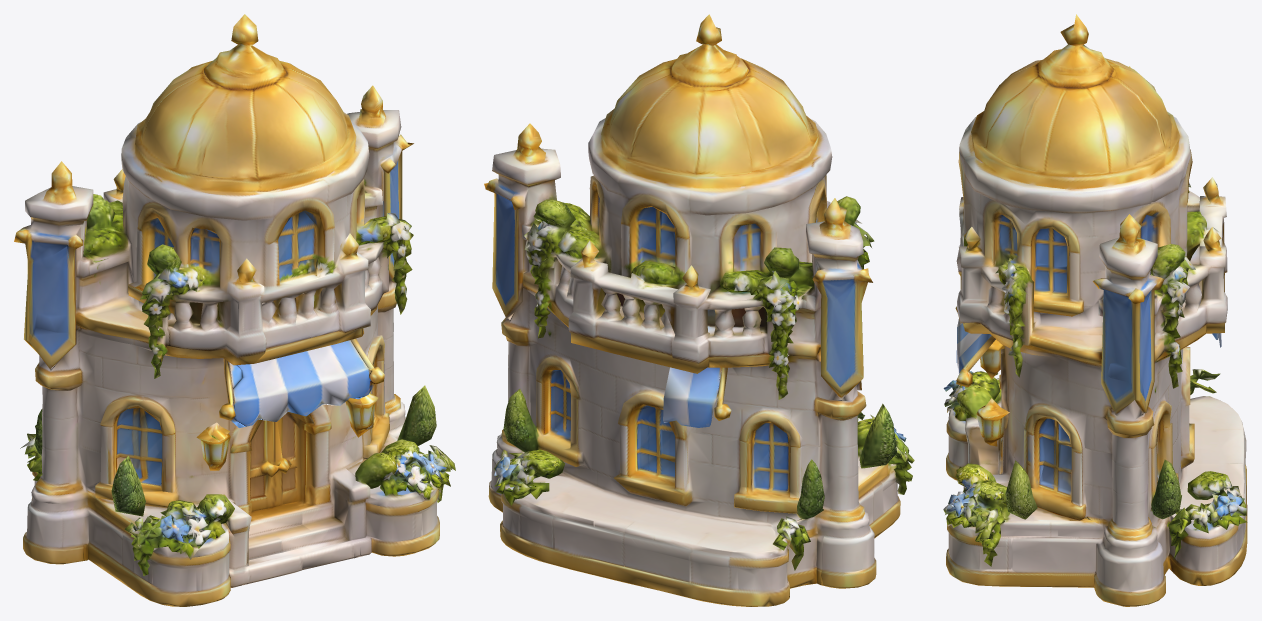
Rendered from Halo_DomeHouseB_HD_plain.glb.
3 renders of one model, left to right at view 1: azimuth 30°, elevation 25°; view 2: azimuth 150°, elevation 25°; view 3: azimuth 270°, elevation 25°, orthographic. The views are drawn at different scales.
Visible parts, largest first — view 1: tripo_node_c7603f40-d565-43d0-9a00-f5dfa097e259; view 2: tripo_node_c7603f40-d565-43d0-9a00-f5dfa097e259; view 3: tripo_node_c7603f40-d565-43d0-9a00-f5dfa097e259.
Boxes of the visible parts, left/top/right/bottom form: tripo_node_c7603f40-d565-43d0-9a00-f5dfa097e259: left=14, top=14, right=455, bottom=606; tripo_node_c7603f40-d565-43d0-9a00-f5dfa097e259: left=484, top=14, right=914, bottom=606; tripo_node_c7603f40-d565-43d0-9a00-f5dfa097e259: left=943, top=14, right=1247, bottom=606.
Bounding box in the file's own units: 0.7956 × 0.9839 × 0.5395.
Materials: 1 (1 with a texture image).
